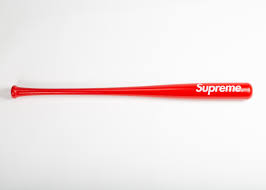bat: (10, 82, 253, 100)
